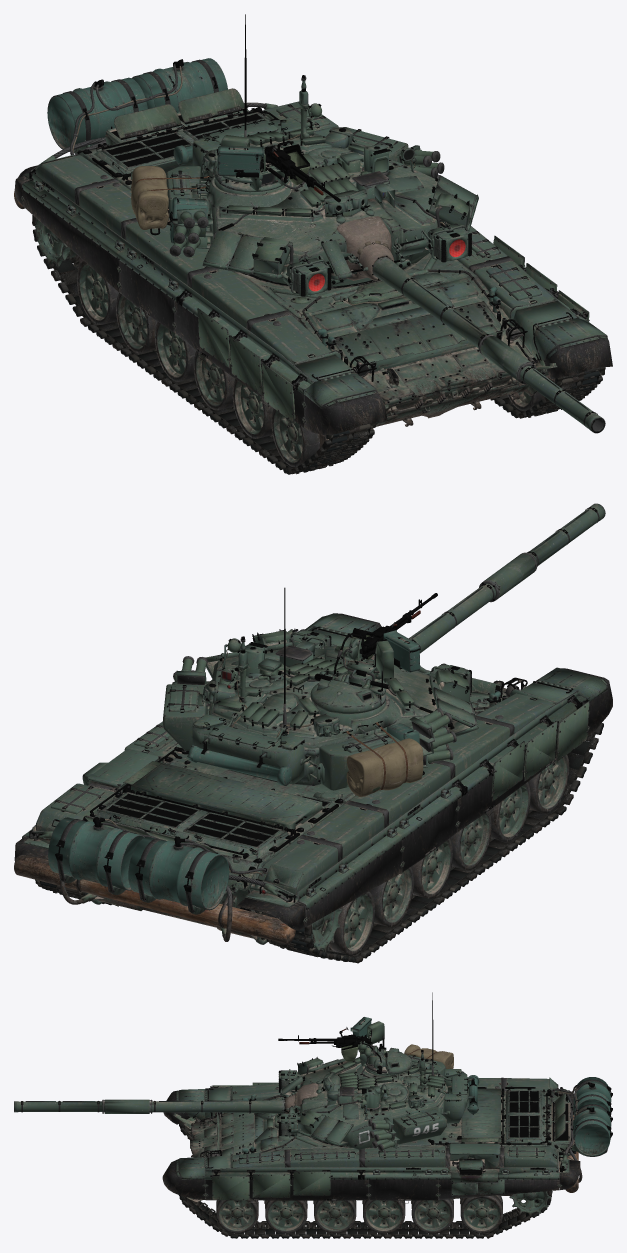
The picture shows the model from 3 angles, top to bottom: view 1: azimuth 30°, elevation 25°; view 2: azimuth 150°, elevation 25°; view 3: azimuth 270°, elevation 25°; orthographic projection. The views are drawn at different scales.
Visible parts, largest first — view 1: desirefx.me_001_T90A_Tower_0, desirefx.me_009_T90A_Equipment_0, desirefx.me_002_T90A_Hull_0, desirefx.me_003_T90A_Wheels_0, desirefx.me_012_T90A_Wheels_0, desirefx.me_008_T90A_Wheels_0, desirefx.me_004_T90A_Wheels_0, desirefx.me_011_T90A_Wheels_0; view 2: desirefx.me_009_T90A_Equipment_0, desirefx.me_003_T90A_Wheels_0, desirefx.me_001_T90A_Tower_0, desirefx.me_002_T90A_Hull_0, desirefx.me_012_T90A_Wheels_0, desirefx.me_008_T90A_Wheels_0, desirefx.me_004_T90A_Wheels_0; view 3: desirefx.me_003_T90A_Wheels_0, desirefx.me_009_T90A_Equipment_0, desirefx.me_001_T90A_Tower_0, desirefx.me_002_T90A_Hull_0, desirefx.me_011_T90A_Wheels_0, desirefx.me_007_T90A_Wheels_0, desirefx.me_004_T90A_Wheels_0.
Part boxes in pixels (bbox=[...]): desirefx.me_001_T90A_Tower_0: bbox=[202, 14, 605, 433]; desirefx.me_009_T90A_Equipment_0: bbox=[14, 58, 612, 434]; desirefx.me_002_T90A_Hull_0: bbox=[70, 88, 557, 434]; desirefx.me_003_T90A_Wheels_0: bbox=[14, 101, 589, 467]; desirefx.me_012_T90A_Wheels_0: bbox=[32, 215, 375, 474]; desirefx.me_008_T90A_Wheels_0: bbox=[22, 173, 324, 466]; desirefx.me_004_T90A_Wheels_0: bbox=[20, 107, 578, 423]; desirefx.me_011_T90A_Wheels_0: bbox=[490, 367, 605, 418]; desirefx.me_009_T90A_Equipment_0: bbox=[14, 613, 612, 943]; desirefx.me_003_T90A_Wheels_0: bbox=[14, 626, 589, 955]; desirefx.me_001_T90A_Tower_0: bbox=[202, 503, 605, 785]; desirefx.me_002_T90A_Hull_0: bbox=[82, 654, 527, 940]; desirefx.me_012_T90A_Wheels_0: bbox=[262, 703, 603, 963]; desirefx.me_008_T90A_Wheels_0: bbox=[237, 695, 589, 952]; desirefx.me_004_T90A_Wheels_0: bbox=[32, 626, 590, 934]; desirefx.me_003_T90A_Wheels_0: bbox=[183, 1077, 580, 1233]; desirefx.me_009_T90A_Equipment_0: bbox=[162, 1044, 612, 1200]; desirefx.me_001_T90A_Tower_0: bbox=[14, 992, 451, 1149]; desirefx.me_002_T90A_Hull_0: bbox=[173, 1087, 573, 1195]; desirefx.me_011_T90A_Wheels_0: bbox=[179, 1180, 552, 1238]; desirefx.me_007_T90A_Wheels_0: bbox=[185, 1086, 569, 1233]; desirefx.me_004_T90A_Wheels_0: bbox=[205, 1079, 558, 1174].
Bounding box in the file's own units: 0.2748 × 0.2768 × 0.7571.
Materials: 7 (7 with a texture image).
